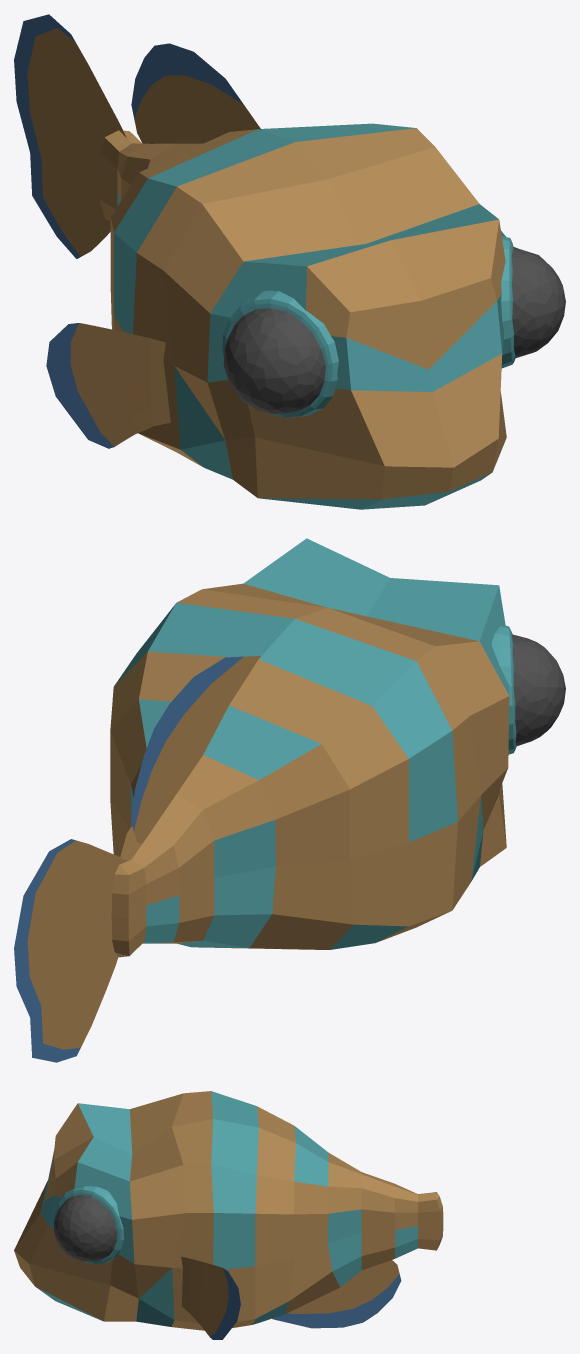
The model's file is mandarinfish.glb.
3 renders of one model, top to bottom at view 1: azimuth 30°, elevation 25°; view 2: azimuth 150°, elevation 25°; view 3: azimuth 270°, elevation 25°, orthographic. The views are drawn at different scales.
Visible parts, largest first — view 1: cutefish__MandarinFish.glb; view 2: cutefish__MandarinFish.glb; view 3: cutefish__MandarinFish.glb.
Boxes of the visible parts, x1,y1,x2,y2 form: cutefish__MandarinFish.glb: [14, 14, 565, 509]; cutefish__MandarinFish.glb: [14, 538, 565, 1062]; cutefish__MandarinFish.glb: [14, 1091, 443, 1339].
Size of the model in its own units: 2.64 by 1.95 by 4.44.
